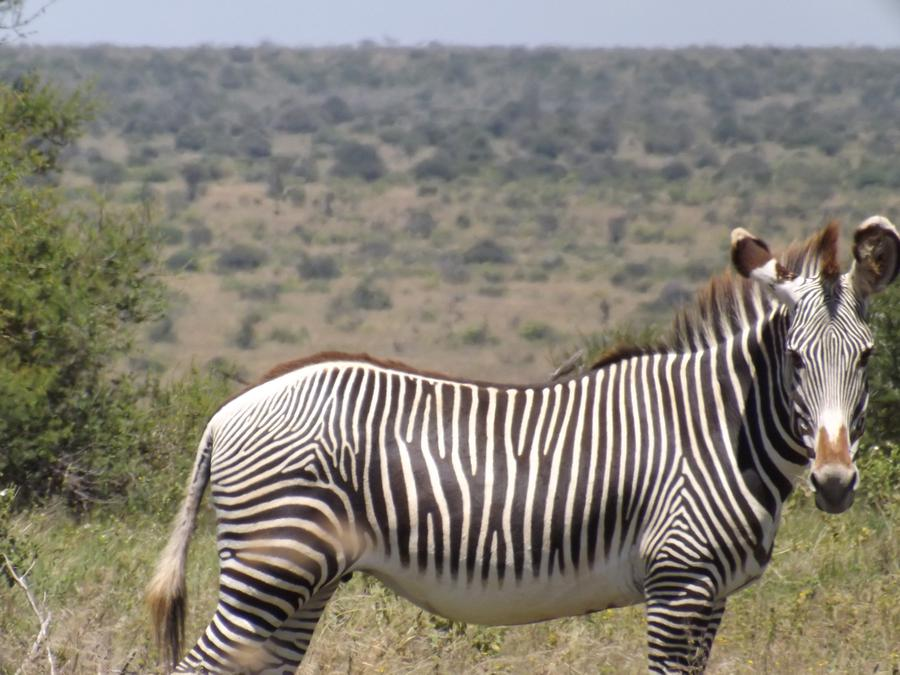zebra_grevys: (187, 332, 744, 600)
